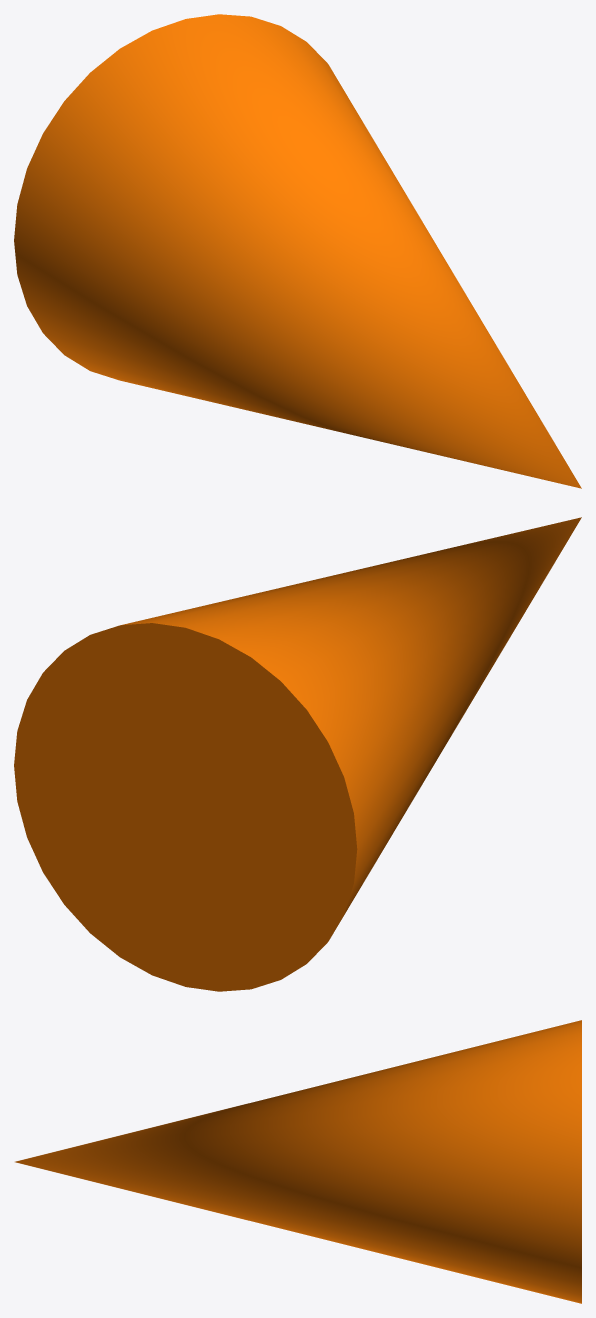
The model's file is orange_cone.obj.
The picture shows the model from 3 angles, top to bottom: view 1: azimuth 30°, elevation 25°; view 2: azimuth 150°, elevation 25°; view 3: azimuth 270°, elevation 25°; orthographic projection. The views are drawn at different scales.
Bounding box in the file's own units: 0.2 × 0.2 × 0.4.
